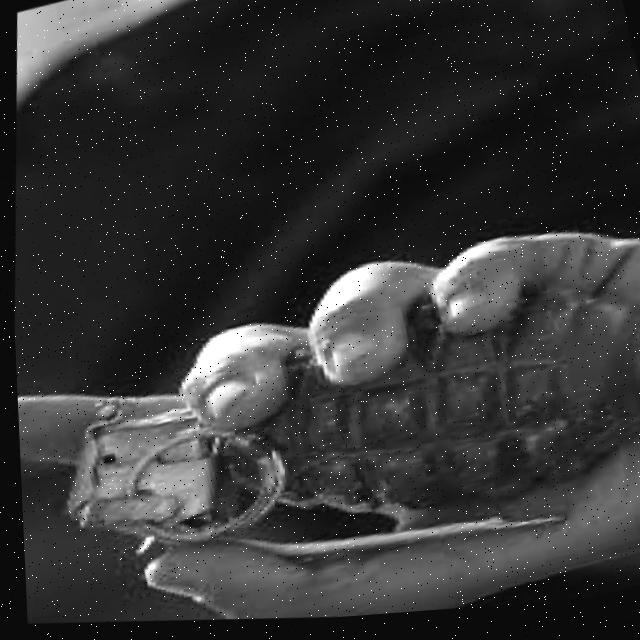grenade: (16, 225, 640, 640)
